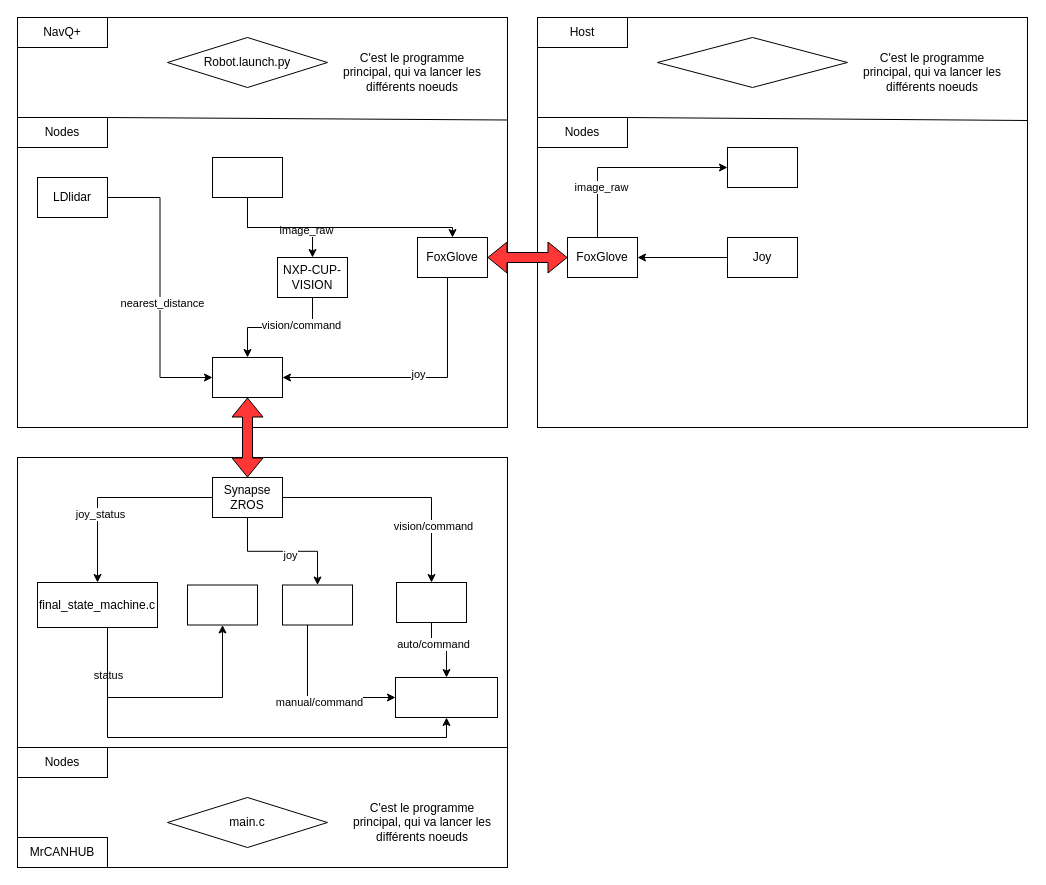
The diagram is 1046 pixels wide and 885 high, and some of its shapes have lost their labels. Each missing label, with the centre of its shape:
"Actuators/motors" goes at point 446,697.
"auto.c" goes at point 431,602.
"Camera" goes at point 247,177.
"Electrode.launch.py" goes at point 752,62.
"lights.c" goes at point 222,604.
"manual.c" goes at point 317,604.
"Panel" goes at point 762,167.
"Synapse ROS" goes at point 247,377.
